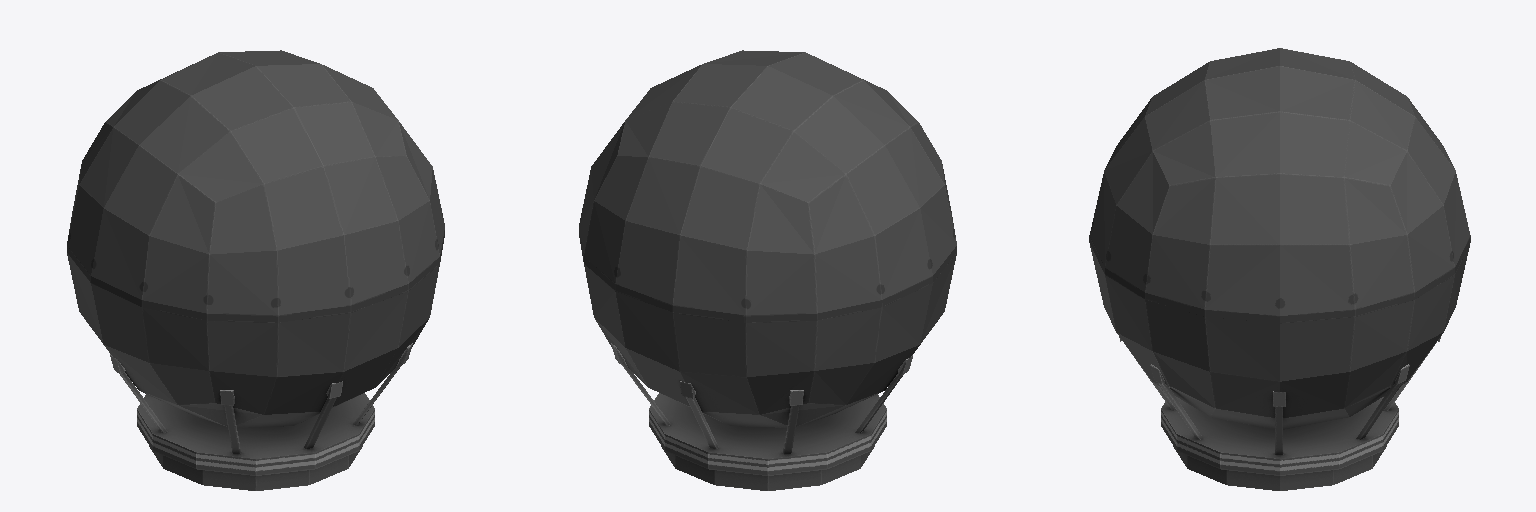
The picture shows the model from 3 angles: view 1: azimuth 30°, elevation 25°; view 2: azimuth 150°, elevation 25°; view 3: azimuth 270°, elevation 25°; orthographic projection.
Visible parts, largest first — view 1: ProbodobodyneStayputnik_mesh; view 2: ProbodobodyneStayputnik_mesh; view 3: ProbodobodyneStayputnik_mesh.
Part boxes in pixels (x1,y1,x2,y2): ProbodobodyneStayputnik_mesh: (67, 50, 444, 490); ProbodobodyneStayputnik_mesh: (579, 50, 956, 490); ProbodobodyneStayputnik_mesh: (1089, 48, 1470, 490).
Size of the model in its own units: 7.94 by 8.74 by 7.94.
Materials: 1 (1 with a texture image).